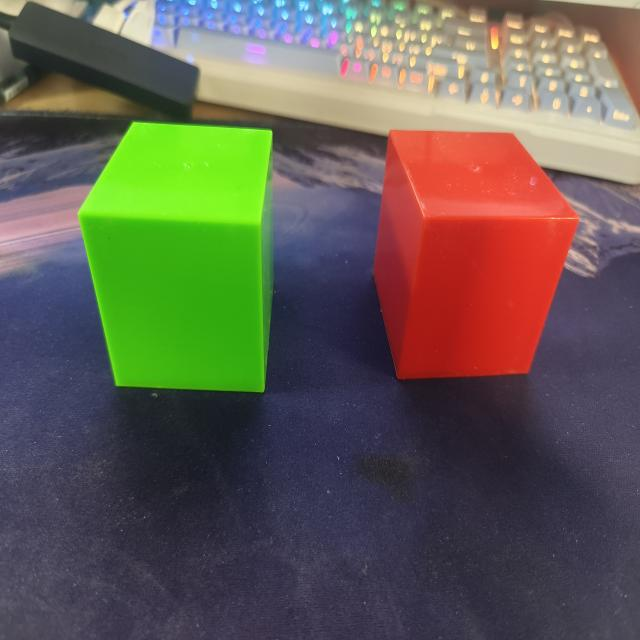green: (69, 104, 287, 408)
red: (360, 108, 584, 396)
